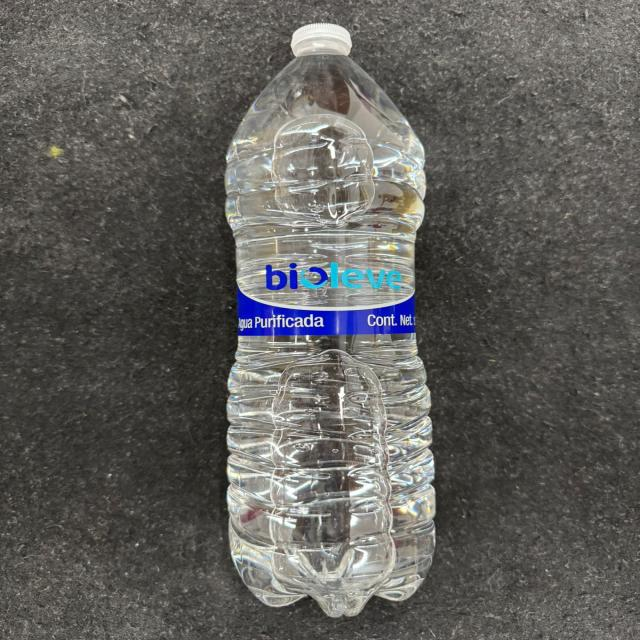AGUA BIOLEVE 1: (215, 19, 438, 617)
